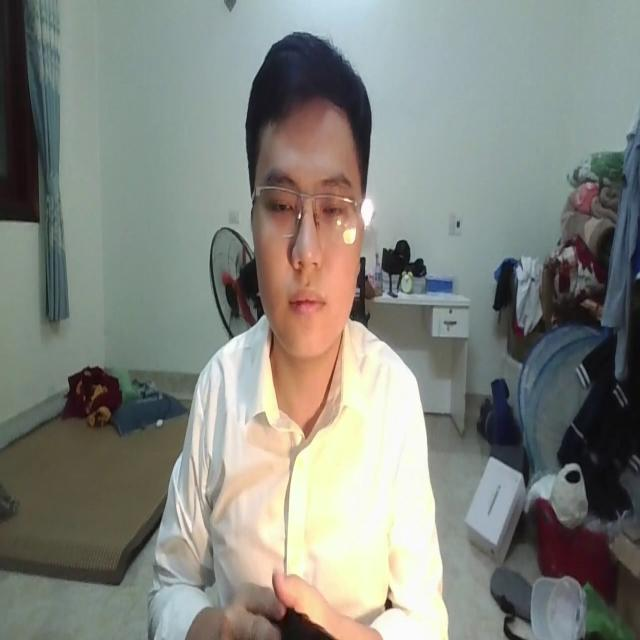student: (149, 28, 443, 640)
